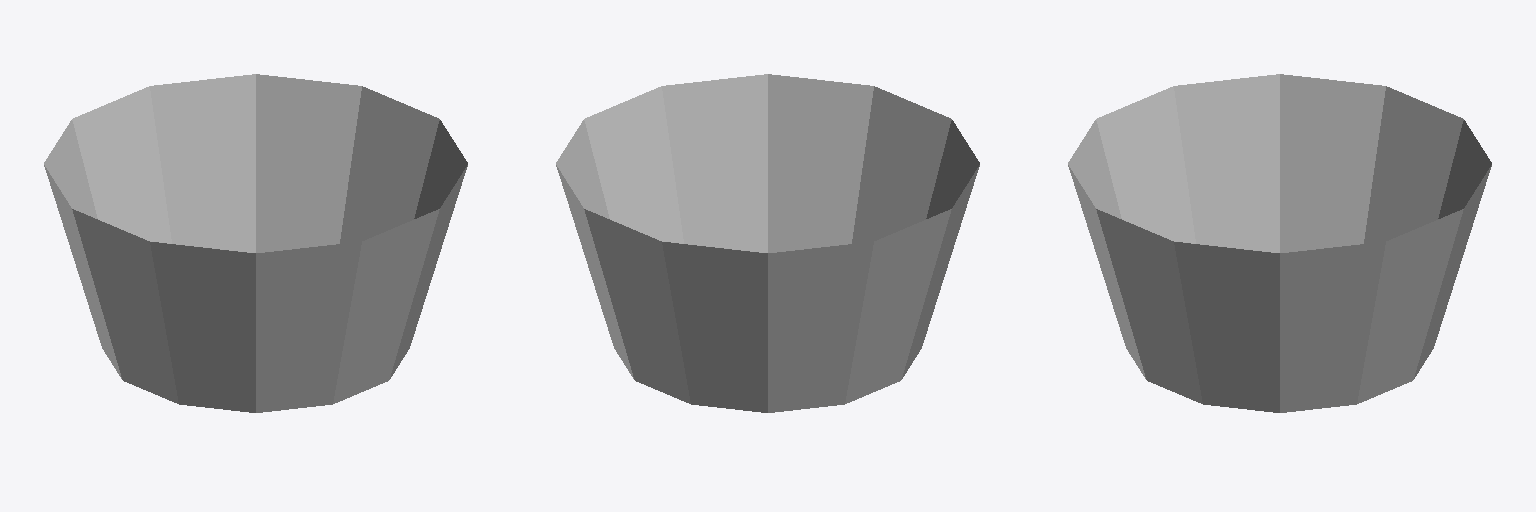
Rendered from LampWallHanging_B.obj.
3 views of the same model, side by side, from view 1: azimuth 30°, elevation 25°; view 2: azimuth 150°, elevation 25°; view 3: azimuth 270°, elevation 25° (orthographic).
Parts seen in each view (by area): view 1: LampWallHanging_B.001_LampWallHanging.019; view 2: LampWallHanging_B.001_LampWallHanging.019; view 3: LampWallHanging_B.001_LampWallHanging.019.
Boxes of the visible parts, box(x1,y1,x2,y2) form: LampWallHanging_B.001_LampWallHanging.019: box(44, 74, 467, 412); LampWallHanging_B.001_LampWallHanging.019: box(556, 74, 979, 412); LampWallHanging_B.001_LampWallHanging.019: box(1068, 74, 1491, 412).
Size of the model in its own units: 0.3574 by 0.1713 by 0.3574.